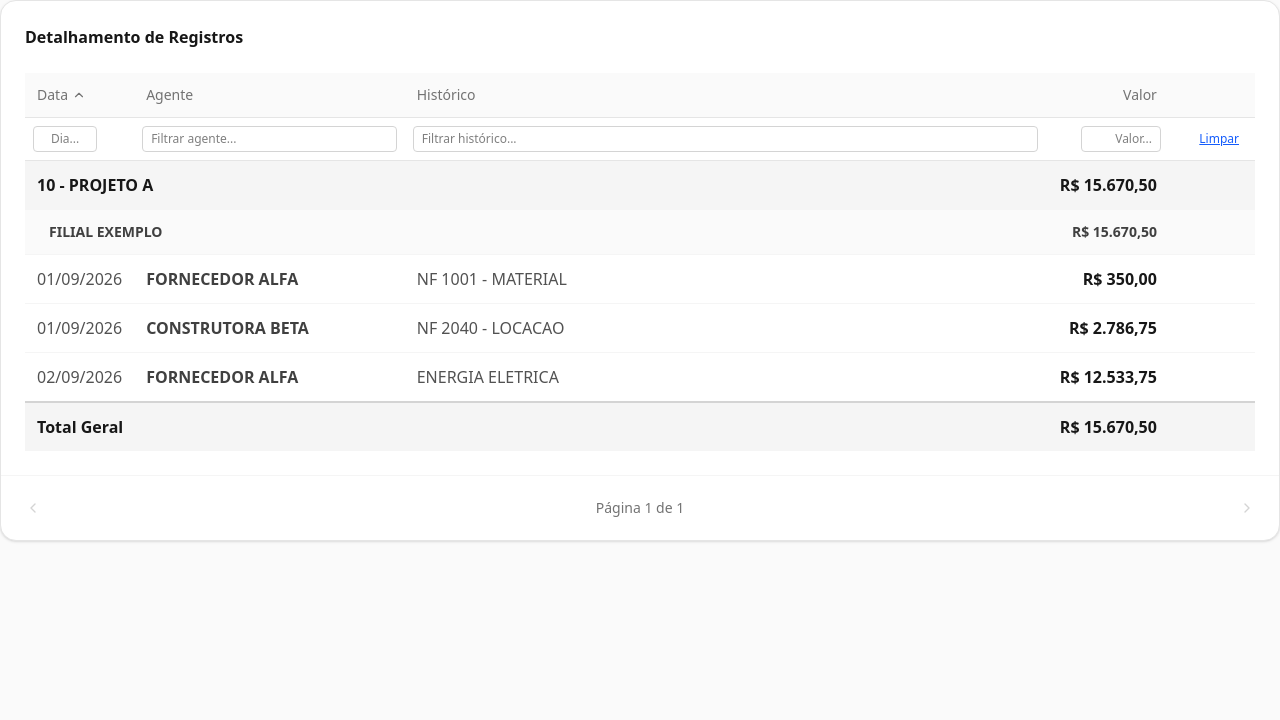
Test: Tabela de Detalhamento (DetalhamentoTable) › Filtros de coluna › deve filtrar por valor digitado com ou sem a formatação brasileira
The width and height of the screenshot is (1280, 720).
In the field with placeholder "Valor...": x=1121, y=139 [1081,126,1161,152], type "12.533"
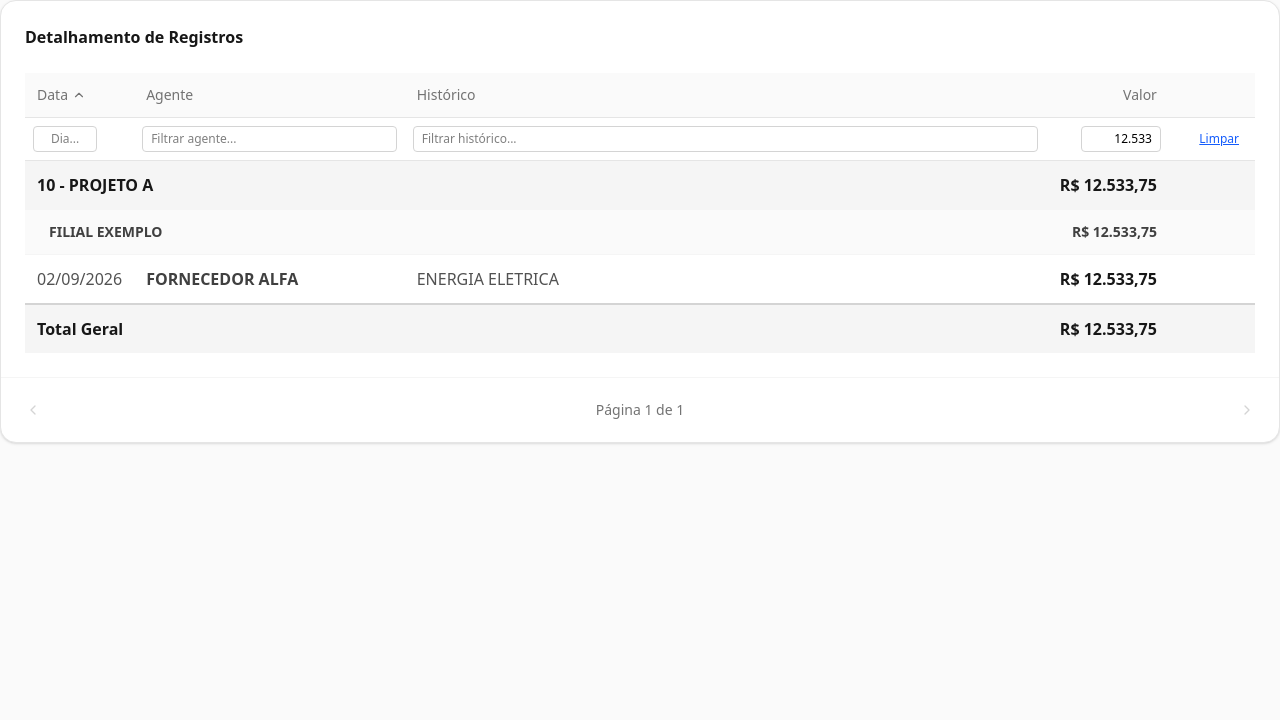
Replace the text in the field with placeholder "Valor..." with "2786.75": x=1121, y=139 [1081,126,1161,152]
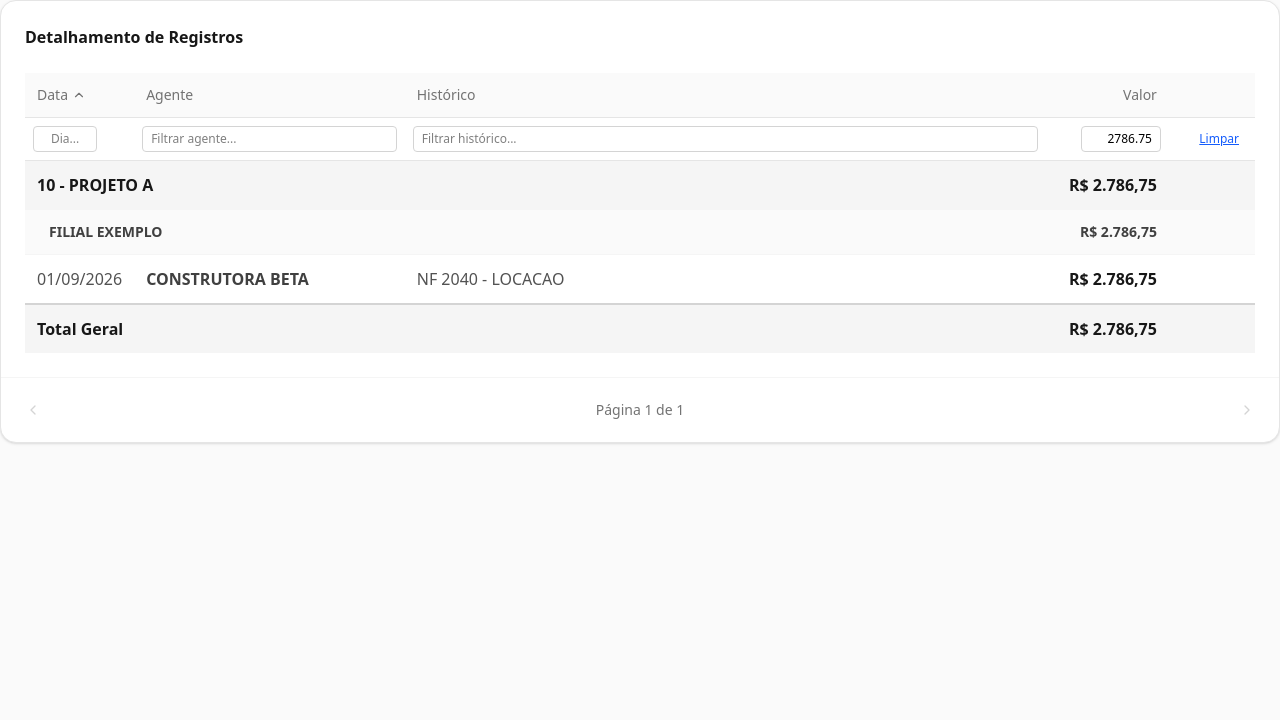
Check: the row "01/09/2026 CONSTRUTORA BETA NF 2040 - LOCACAO R$ 2.786,75" is shown, box [25,254,1255,304]
